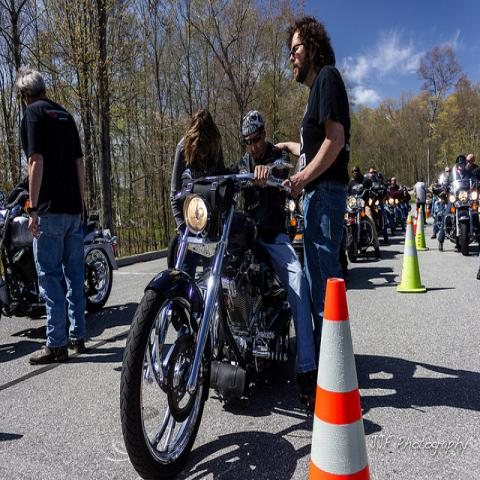motorcycle: (119, 161, 294, 469), (1, 196, 119, 318), (433, 179, 478, 255), (346, 183, 379, 262), (363, 171, 385, 235), (383, 190, 401, 234), (470, 181, 480, 251), (433, 194, 448, 219), (400, 200, 408, 230)
